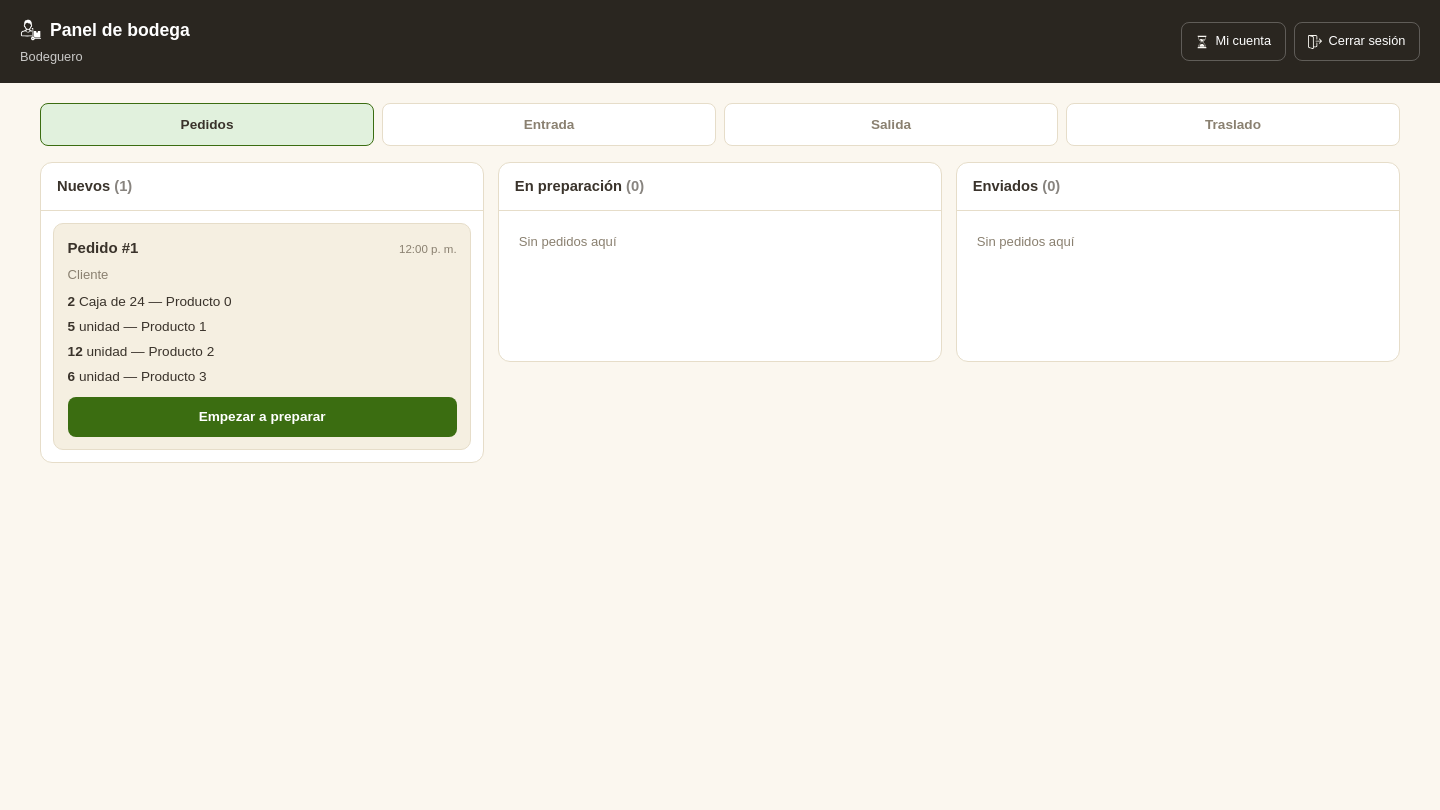
muestra el ingreso en su presentación y conserva cantidades y signos de movimientos en unidades
What coordinates should you click on to do the following:
click the button "Entrada"
I would click on:
 (549, 124)
Its box is [382,103,716,146].
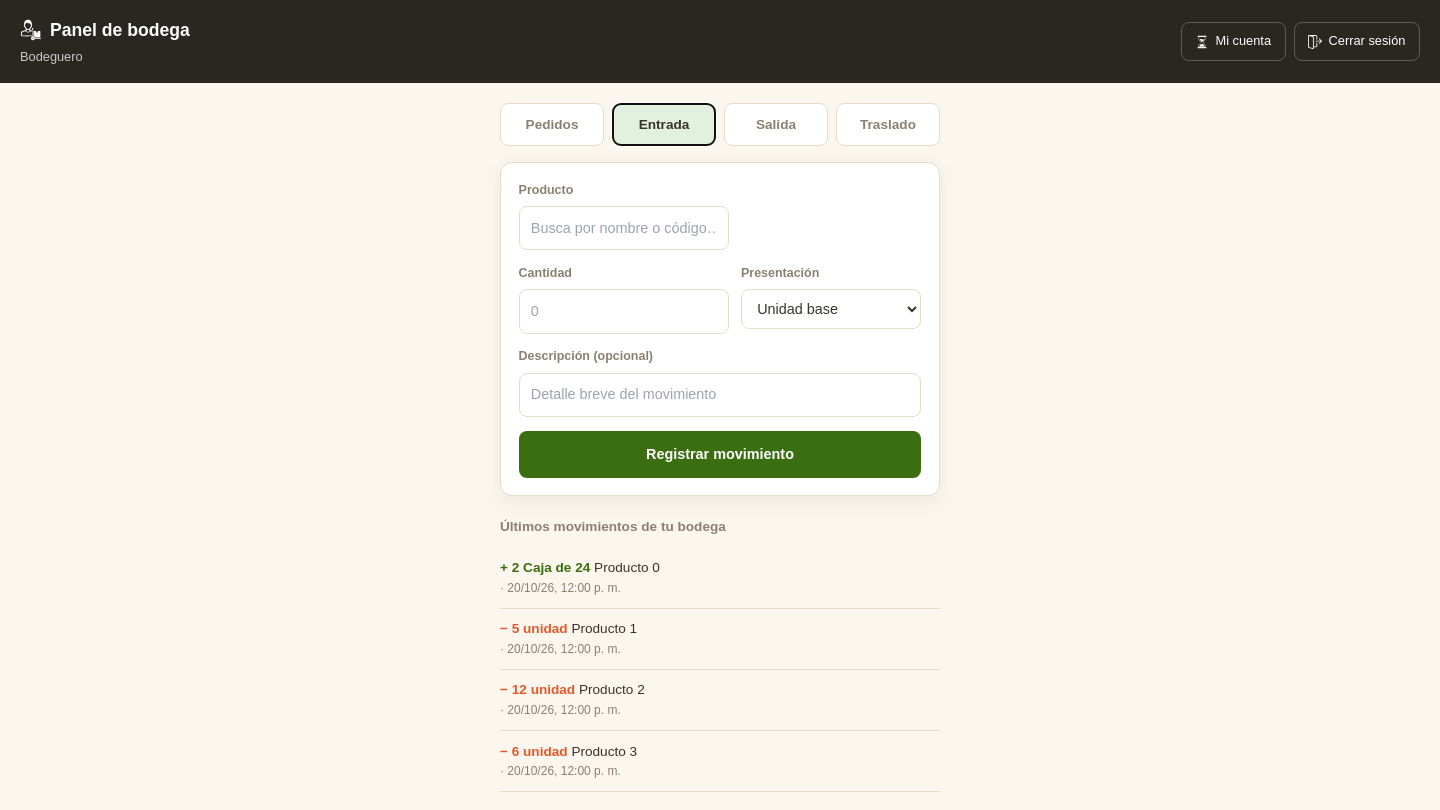
expect the text "+ 2 Caja de 24" is shown: met, box [500,560,590,575]
expect the text "− 5 unidad" is shown: met, box [500,621,568,636]
expect the text "− 12 unidad" is shown: met, box [500,682,575,697]
